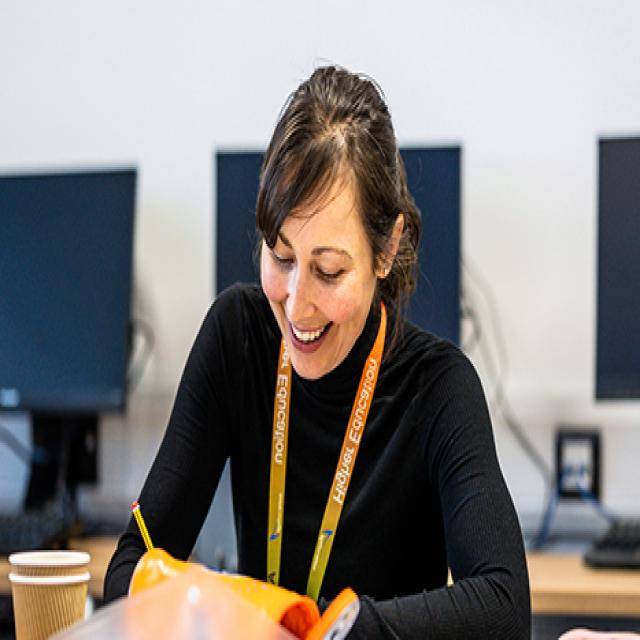adult: (104, 68, 530, 640)
